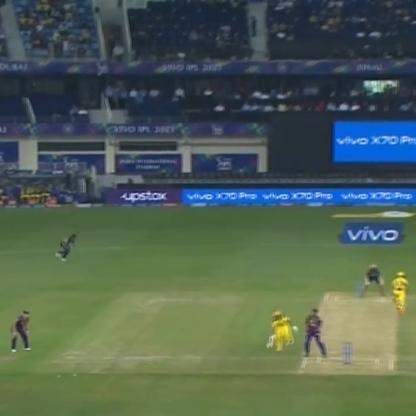pitch: (293, 288, 396, 374)
